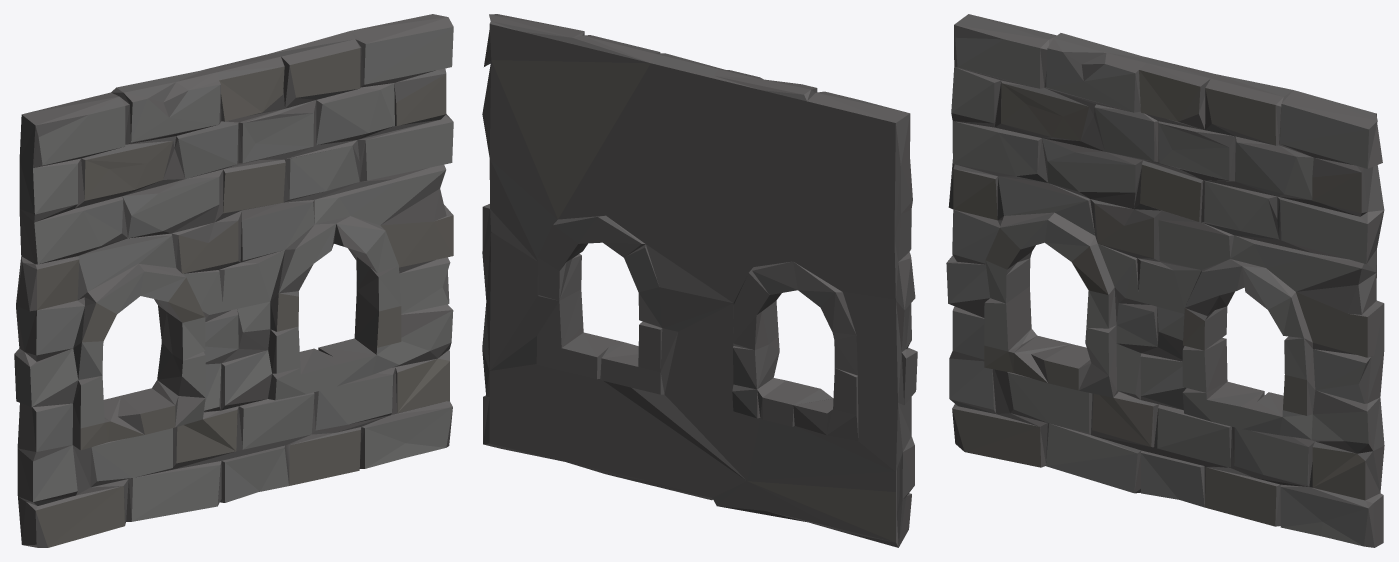
Rendered from SM_Env_Wall_Window_01.FBX.
3 renders of one model, left to right at view 1: azimuth 30°, elevation 25°; view 2: azimuth 150°, elevation 25°; view 3: azimuth 330°, elevation 25°, orthographic.
Parts seen in each view (by area): view 1: SM_Env_Wall_Window_01; view 2: SM_Env_Wall_Window_01; view 3: SM_Env_Wall_Window_01.
Part boxes in pixels (x1=…): SM_Env_Wall_Window_01: x1=14, y1=14, x2=453, y2=547; SM_Env_Wall_Window_01: x1=482, y1=14, x2=917, y2=547; SM_Env_Wall_Window_01: x1=946, y1=14, x2=1384, y2=547.
Size of what is drawn, in the model's own units: 521 by 52.26 by 507.
